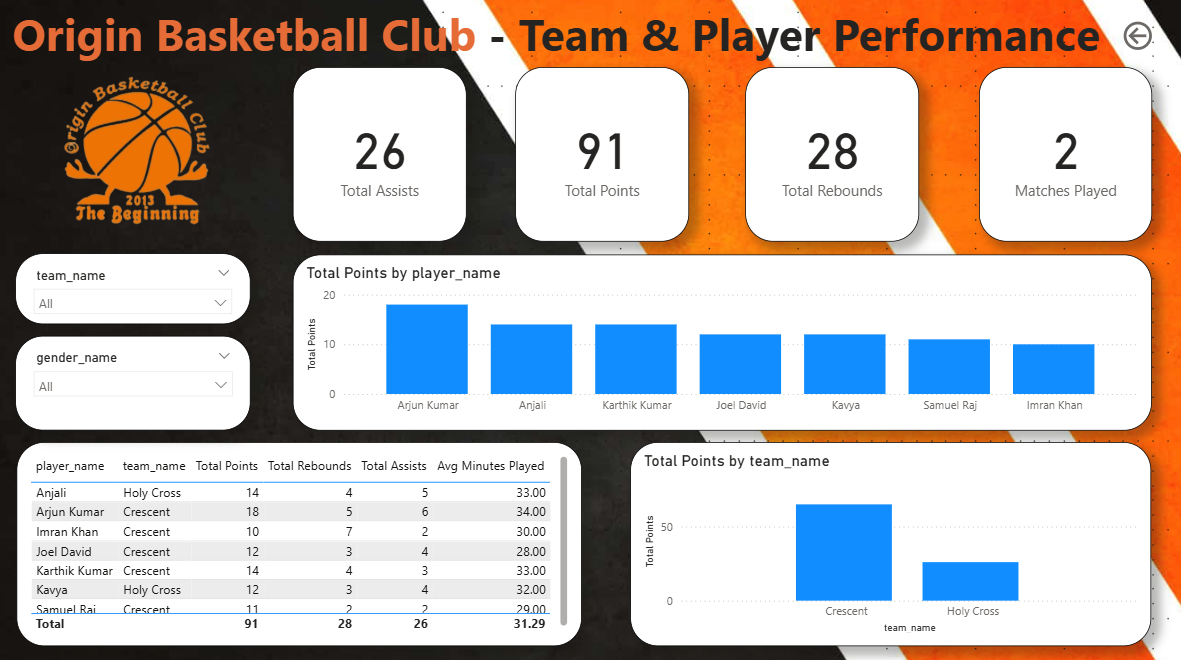

Layout of this report page (visuals, bound fields, positions):
{"tool":"powerbi","page":{"name":"Team & Player Performance","canvas":[1280,720],"ordinal":2},"visuals":[{"type":"card","fields":{"Values":["_Measures.Total Points"]},"box":[557.6,76.2,187.8,189.2],"z":0},{"type":"card","fields":{"Values":["_Measures.Total Rebounds"]},"box":[806.1,76.2,187.8,189.2],"z":1000},{"type":"card","fields":{"Values":["_Measures.Total Assists"]},"box":[317.6,76.2,187.8,189.2],"z":2000},{"type":"card","fields":{"Values":["_Measures.Matches Played"]},"box":[1059.2,76.1,187.3,188.7],"z":3000},{"type":"clusteredColumnChart","fields":{"Category":["origin_basketball_db players.player_name"],"Y":["_Measures.Total Points"]},"box":[317.6,278.1,928.9,190.6],"z":4000},{"type":"clusteredColumnChart","fields":{"Category":["origin_basketball_db teams.team_name"],"Y":["_Measures.Total Points"]},"box":[683.1,481.7,563.4,221.1],"z":5000},{"type":"tableEx","fields":{"Values":["origin_basketball_db players.player_name","origin_basketball_db teams.team_name","_Measures.Total Points","_Measures.Total Rebounds","_Measures.Total Assists","_Measures.Avg Minutes Played"]},"box":[18.3,481.7,611.3,221.1],"z":6000},{"type":"slicer","fields":{"Values":["origin_basketball_db teams.team_name"]},"box":[17.8,277.3,254.2,76.4],"z":7000},{"type":"slicer","fields":{"Values":["origin_basketball_db gender_categories.gender_name"]},"box":[17.2,366.8,254.8,102.2],"z":8000},{"type":"actionButton","box":[1211.1,22.2,68.9,40.6],"z":9000},{"type":"image","box":[18.5,76.3,253.5,188.3],"z":10000},{"type":"textbox","box":[9.8,1.2,1244.3,75.1],"z":11000}]}

Visuals, with their boxes in screenshot pixels (x1, y1, x2, y2), scaled from the page's 1280x720 canvas onto the 1181x660 screenshot:
card - _Measures.Total Points: {"left": 514, "top": 70, "right": 688, "bottom": 243}
card - _Measures.Total Rebounds: {"left": 744, "top": 70, "right": 917, "bottom": 243}
card - _Measures.Total Assists: {"left": 293, "top": 70, "right": 466, "bottom": 243}
card - _Measures.Matches Played: {"left": 977, "top": 70, "right": 1150, "bottom": 243}
clusteredColumnChart - origin_basketball_db players.player_name x _Measures.Total Points: {"left": 293, "top": 255, "right": 1150, "bottom": 430}
clusteredColumnChart - origin_basketball_db teams.team_name x _Measures.Total Points: {"left": 630, "top": 442, "right": 1150, "bottom": 644}
tableEx - origin_basketball_db players.player_name x origin_basketball_db teams.team_name: {"left": 17, "top": 442, "right": 581, "bottom": 644}
slicer - origin_basketball_db teams.team_name: {"left": 16, "top": 254, "right": 251, "bottom": 324}
slicer - origin_basketball_db gender_categories.gender_name: {"left": 16, "top": 336, "right": 251, "bottom": 430}
actionButton: {"left": 1117, "top": 20, "right": 1180, "bottom": 58}
image: {"left": 17, "top": 70, "right": 251, "bottom": 243}
textbox: {"left": 9, "top": 1, "right": 1157, "bottom": 70}
